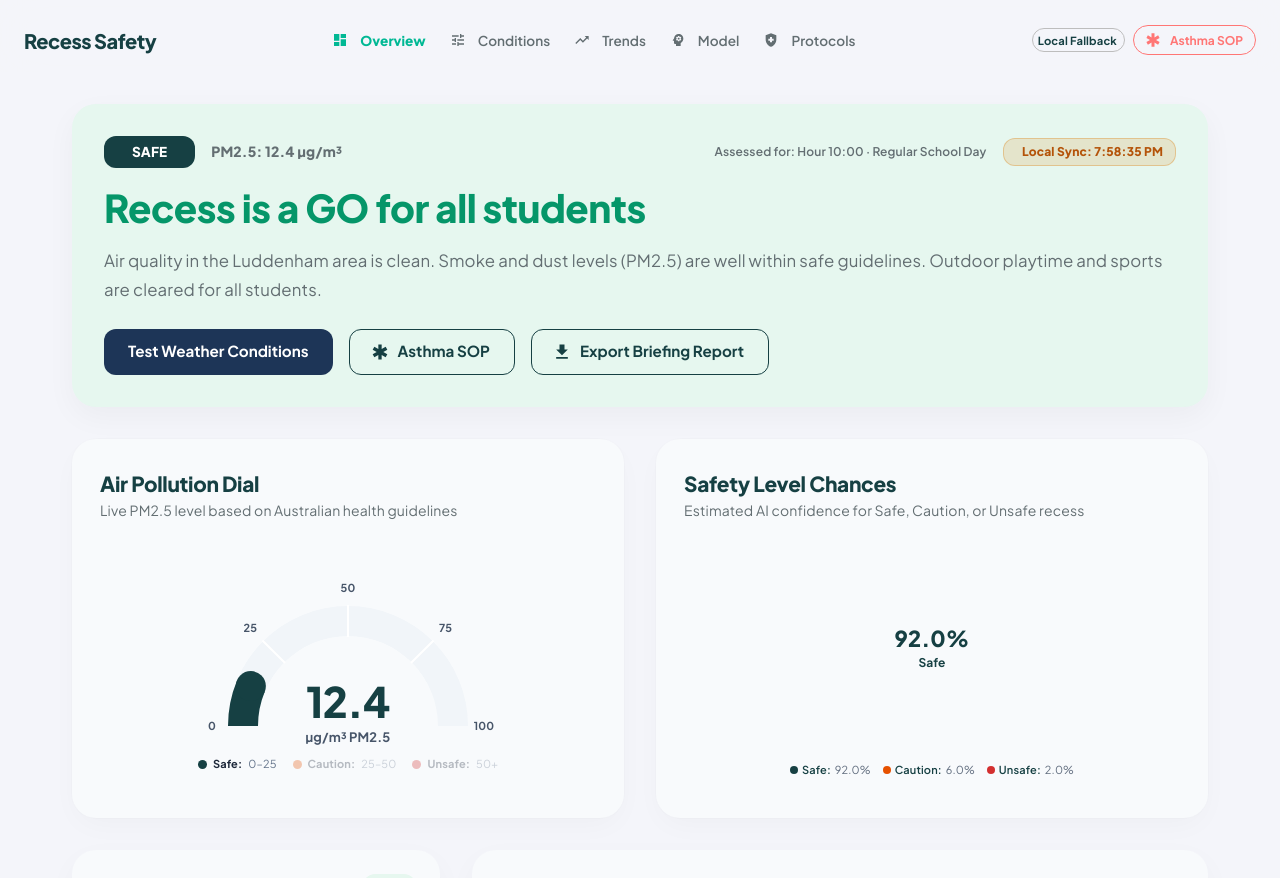
Test: Recess Safety Advisor - Frontend Integration Tests › renders navigation tabs and switches views
Click the tab "Conditions": (500, 40) [438,18,562,62]
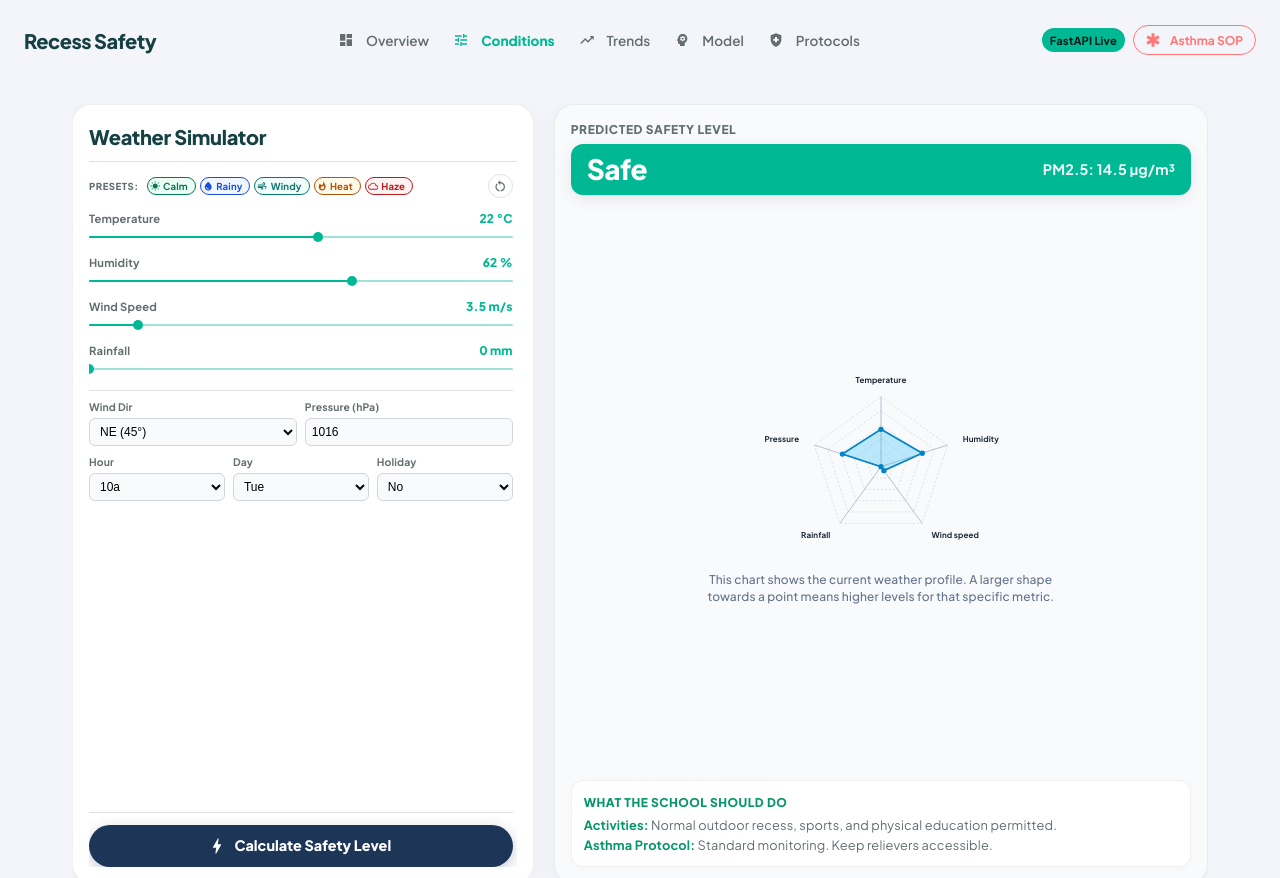
Now the heading "Weather Simulator" is shown, box [89,124,266,149]
